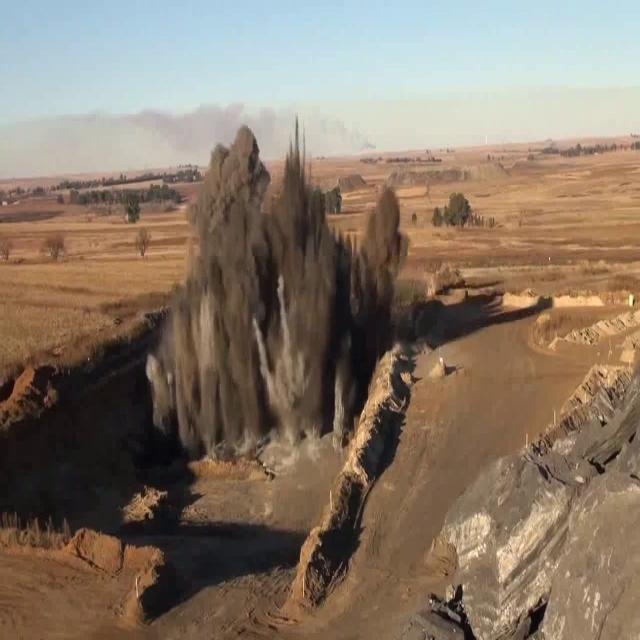explosion: (119, 108, 428, 513)
